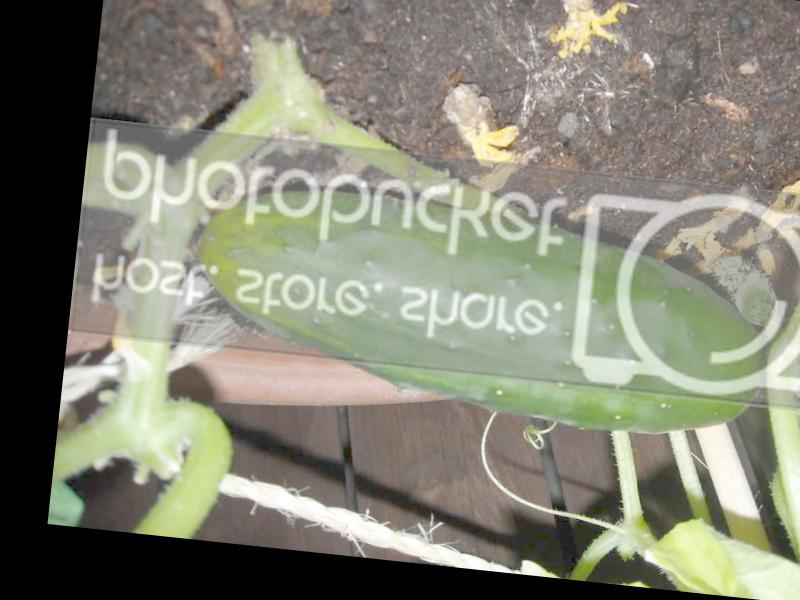Cucumber: (185, 172, 775, 443)
